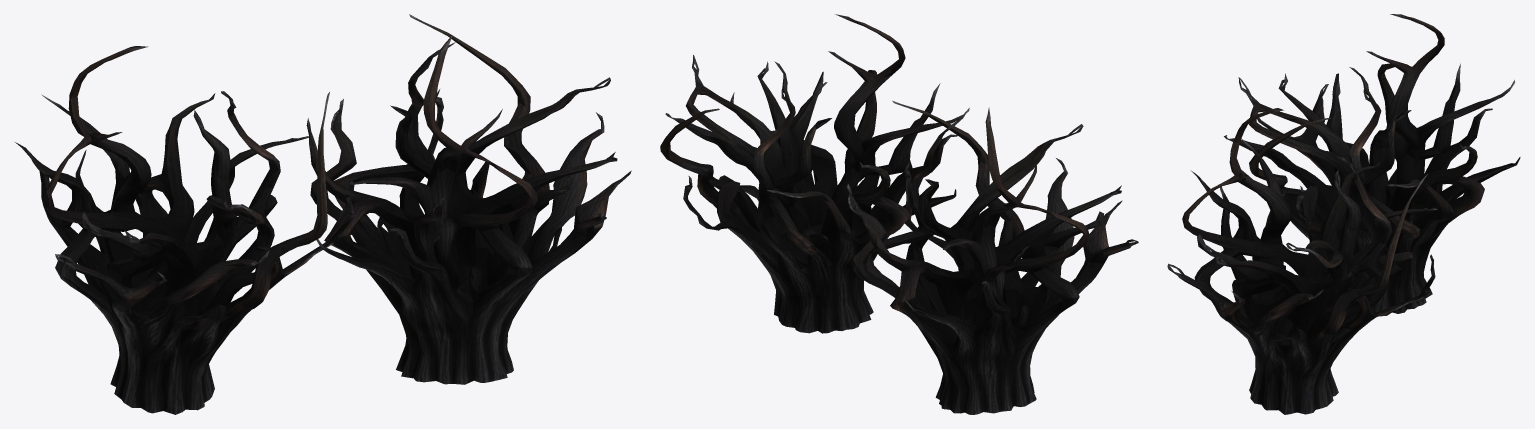
File: blocker2.glb
3 views of the same model, side by side, from view 1: azimuth 30°, elevation 25°; view 2: azimuth 150°, elevation 25°; view 3: azimuth 270°, elevation 25° (orthographic). The views are drawn at different scales.
Parts seen in each view (by area): view 1: blocker2; view 2: blocker2; view 3: blocker2.
Part boxes in pixels (<box>): blocker2: <box>15,14,631,414</box>; blocker2: <box>660,14,1138,414</box>; blocker2: <box>1167,14,1520,414</box>.
Size of what is drawn, in the model's own units: 14.23 by 8.64 by 9.74.
Materials: 1 (1 with a texture image).
